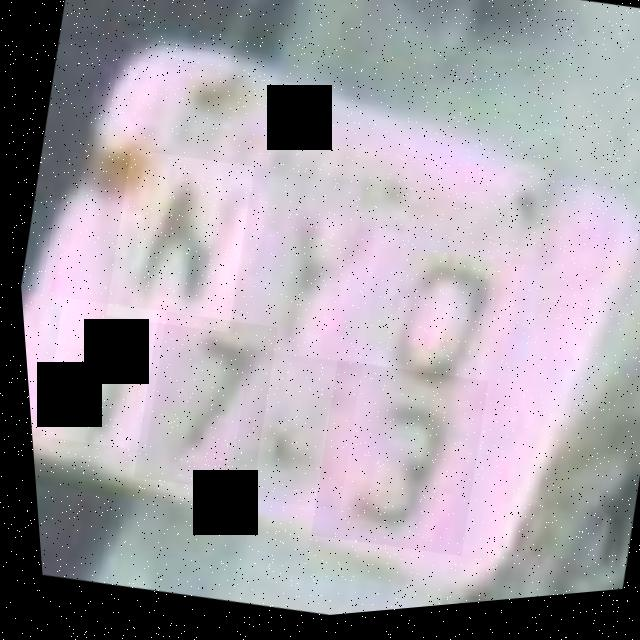1: (27, 291, 169, 460)
3: (292, 355, 492, 574)
5: (211, 345, 364, 524)
7: (116, 304, 282, 505)
N: (90, 143, 260, 345)
O: (342, 222, 522, 424)
Y: (211, 163, 388, 384)
